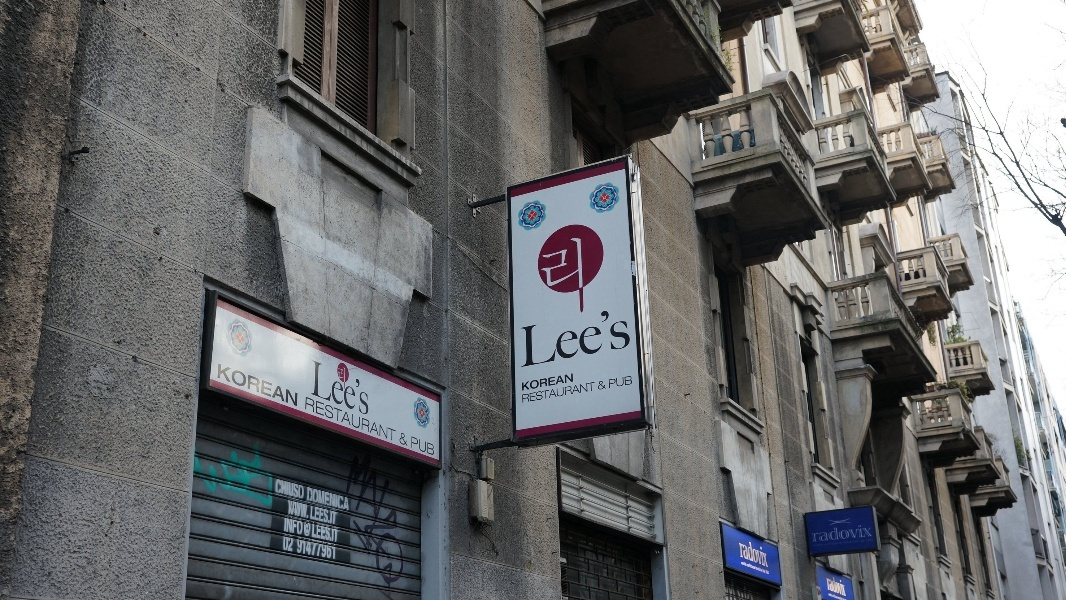text: (529, 307, 544, 368), (545, 307, 560, 368), (561, 307, 576, 368), (577, 307, 592, 368), (593, 307, 608, 368), (609, 307, 624, 368), (321, 397, 336, 441), (337, 397, 352, 441), (353, 397, 368, 441), (369, 397, 384, 441), (225, 364, 240, 407), (241, 364, 256, 407), (257, 364, 272, 407), (273, 364, 288, 407), (306, 397, 320, 441), (385, 397, 397, 441), (753, 539, 769, 568), (521, 307, 528, 368), (289, 364, 298, 407), (739, 539, 752, 568), (289, 500, 304, 525), (305, 500, 320, 525), (321, 500, 336, 525), (625, 307, 631, 368), (321, 487, 336, 511), (289, 518, 304, 542), (305, 518, 320, 542), (321, 518, 336, 542), (289, 479, 305, 499), (529, 382, 544, 403), (545, 382, 560, 403), (561, 382, 576, 403), (577, 382, 592, 403), (305, 539, 320, 560), (321, 539, 336, 560), (307, 487, 320, 511), (833, 575, 847, 597), (417, 436, 432, 456), (337, 487, 349, 511), (529, 373, 544, 391), (545, 373, 560, 391), (817, 526, 832, 543), (833, 526, 848, 543), (849, 526, 864, 543), (753, 561, 769, 575), (277, 479, 288, 499), (561, 373, 573, 391), (219, 364, 224, 407), (401, 433, 416, 447), (609, 376, 624, 388), (742, 561, 752, 575), (826, 575, 832, 597), (298, 539, 304, 560), (865, 526, 872, 543), (522, 373, 528, 391), (523, 382, 528, 403), (833, 593, 847, 600), (598, 381, 608, 390), (625, 376, 632, 388), (412, 436, 416, 456), (285, 518, 288, 542), (337, 518, 340, 542), (812, 526, 816, 543), (284, 537, 288, 552), (289, 537, 293, 552), (593, 382, 595, 403), (433, 436, 435, 456), (337, 500, 338, 525), (829, 593, 832, 600)
